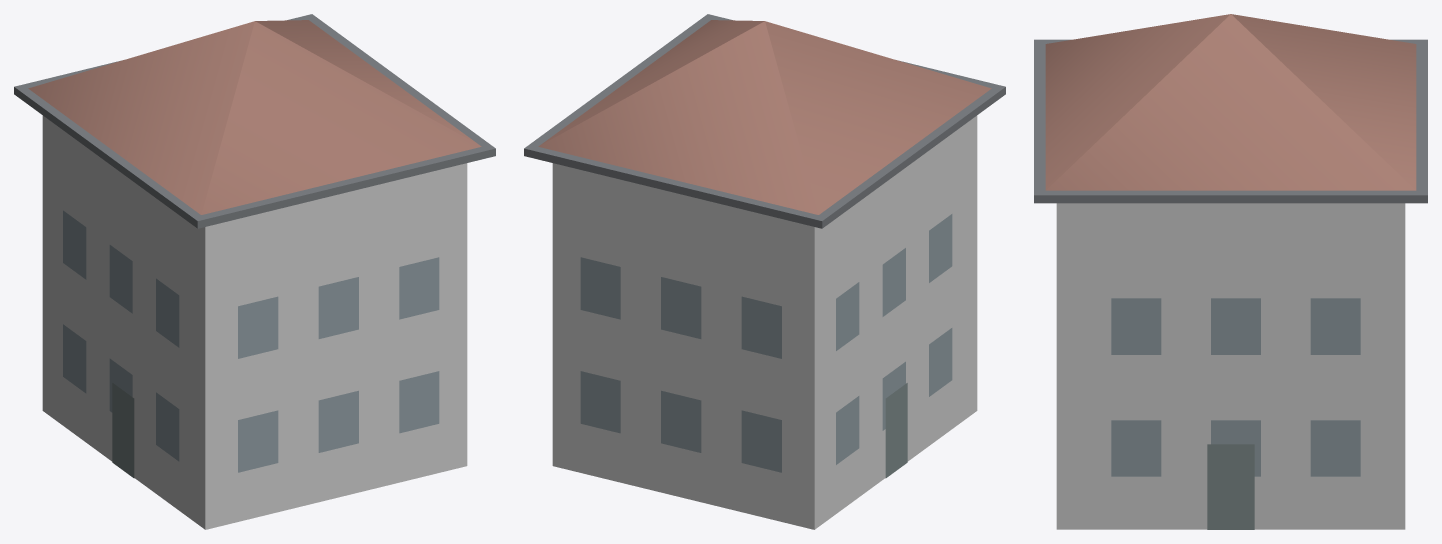
The model's file is home_3.glb.
The picture shows the model from 3 angles, left to right: view 1: azimuth 30°, elevation 25°; view 2: azimuth 150°, elevation 25°; view 3: azimuth 270°, elevation 25°; orthographic projection. The views are drawn at different scales.
Parts seen in each view (by area): view 1: home_3; view 2: home_3; view 3: home_3.
Part boxes in pixels (bbox=[...]): home_3: bbox=[14, 14, 495, 529]; home_3: bbox=[524, 14, 1005, 529]; home_3: bbox=[1034, 14, 1427, 529].
Bounding box in the file's own units: 7.4 × 9.9 × 7.9.
